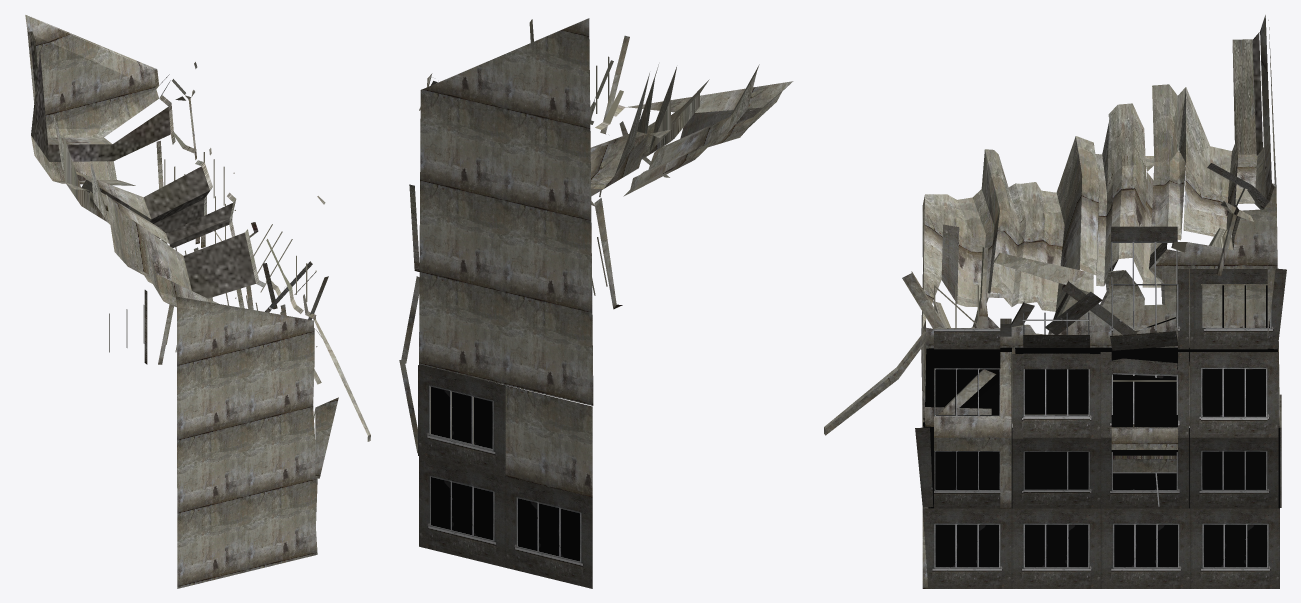
The model's file is collapsedbuilding02b.glb.
The picture shows the model from 3 angles, left to right: view 1: azimuth 30°, elevation 25°; view 2: azimuth 150°, elevation 25°; view 3: azimuth 270°, elevation 25°; orthographic projection. The views are drawn at different scales.
Visible parts, largest first — view 1: 0_plasterwall021a, 1_CollapsedBuilding02a; view 2: 0_plasterwall021a, 1_CollapsedBuilding02a; view 3: 1_CollapsedBuilding02a, 0_plasterwall021a.
Part boxes in pixels (bbox=[...]): 0_plasterwall021a: bbox=[25, 15, 370, 588]; 1_CollapsedBuilding02a: bbox=[27, 31, 312, 312]; 0_plasterwall021a: bbox=[399, 18, 793, 497]; 1_CollapsedBuilding02a: bbox=[418, 81, 761, 588]; 1_CollapsedBuilding02a: bbox=[915, 32, 1286, 588]; 0_plasterwall021a: bbox=[824, 15, 1281, 588].
Size of the model in its own units: 8.62 by 20.32 by 16.97.
2 materials, 2 textured.
